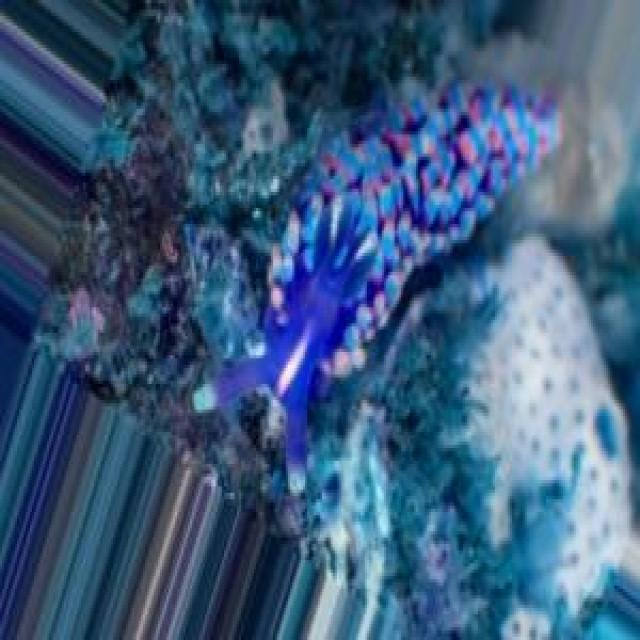Bleached: (444, 226, 627, 628)
Healthy: (195, 80, 561, 491)
